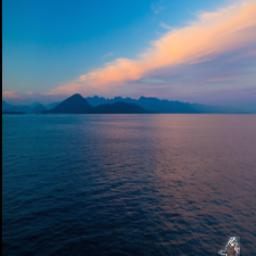Woodpecker: (218, 237, 240, 256)
